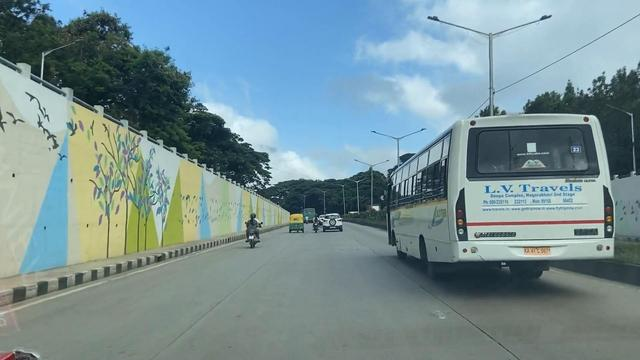HMV: (388, 117, 615, 274)
LMV: (248, 211, 263, 245)
